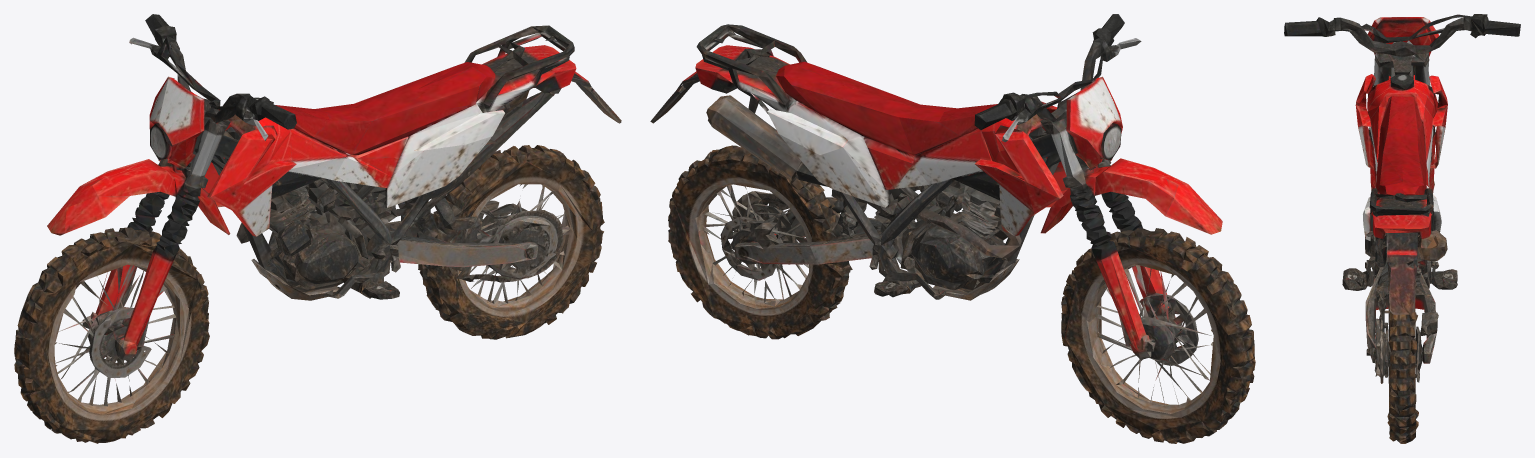
File: motor.glb
3 views of the same model, side by side, from view 1: azimuth 30°, elevation 25°; view 2: azimuth 150°, elevation 25°; view 3: azimuth 270°, elevation 25° (orthographic). The views are drawn at different scales.
Visible parts, largest first — view 1: output_unwrapped; view 2: output_unwrapped; view 3: output_unwrapped.
Boxes of the visible parts, x1,y1,x2,y2 form: output_unwrapped: (14, 14, 621, 443); output_unwrapped: (650, 14, 1255, 443); output_unwrapped: (1284, 14, 1520, 443).
Bounding box in the file's own units: 1.9 × 1.08 × 0.7651.
1 material, 1 textured.
